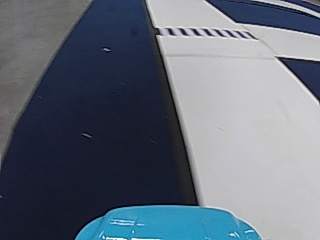CrossWalk: (159, 24, 255, 38)
